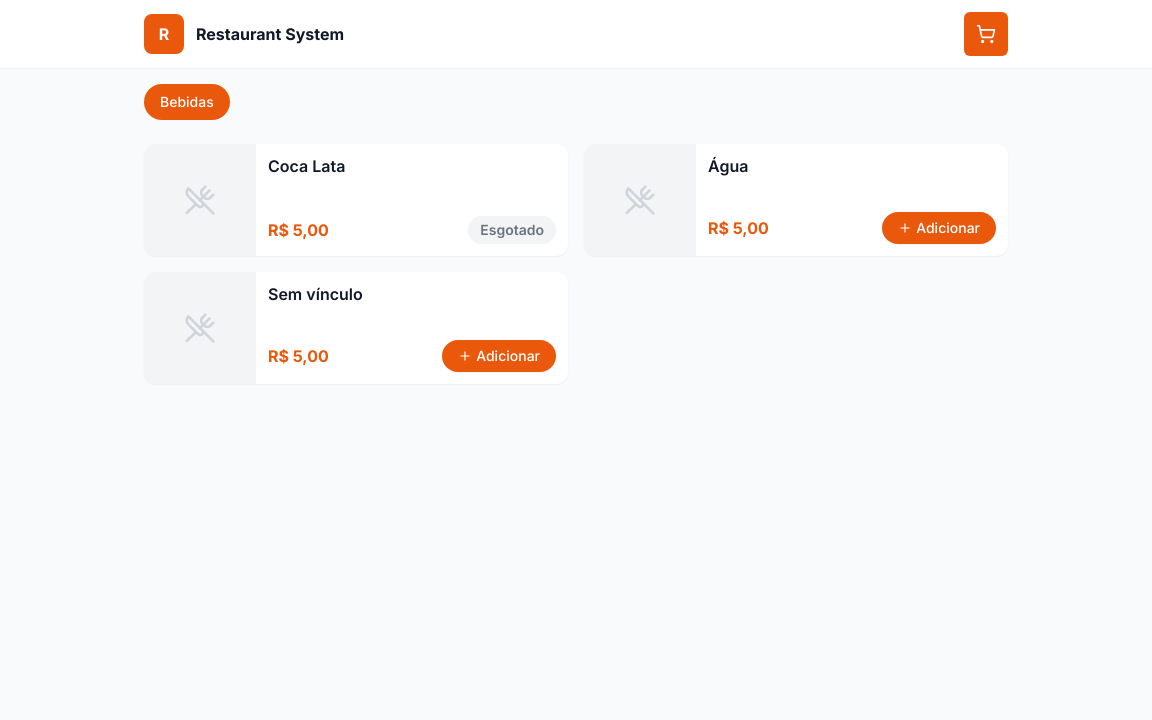
Test: stock race at confirmation › public checkout shows the stock error and retains the cart for correction
Click the button "Adicionar" below "Água" at (939, 228), box [882,212,996,244]
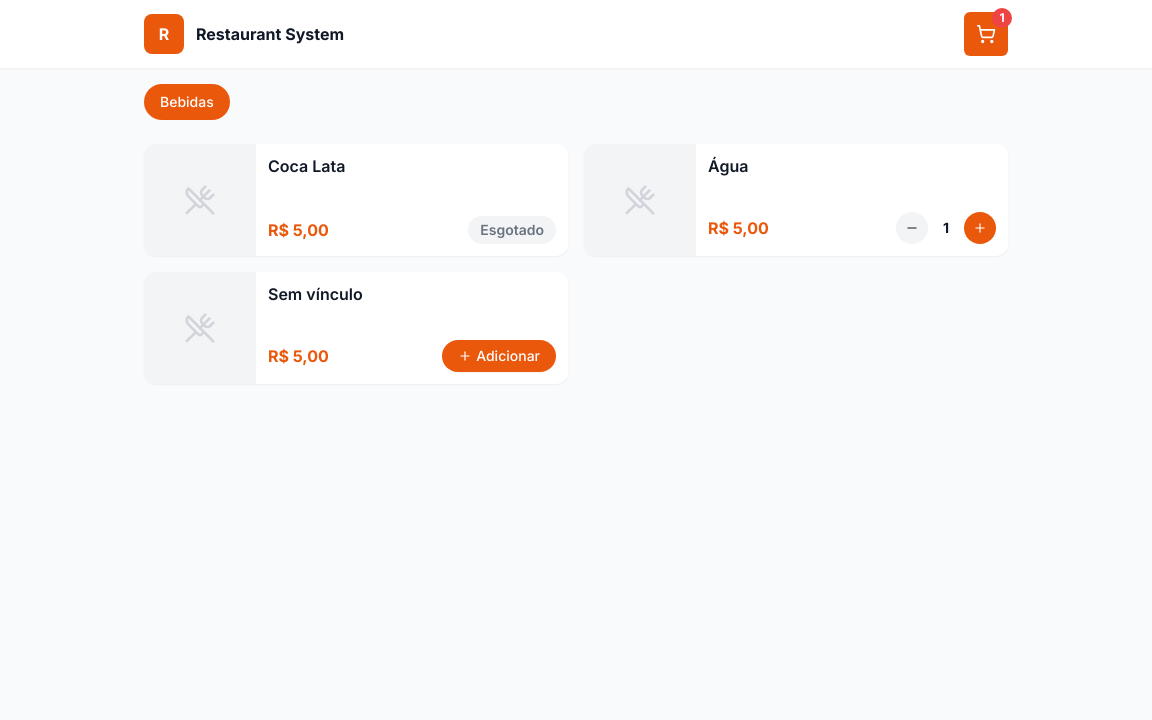
Click the button named "Abrir carrinho" at (986, 34), box [964,12,1008,56]
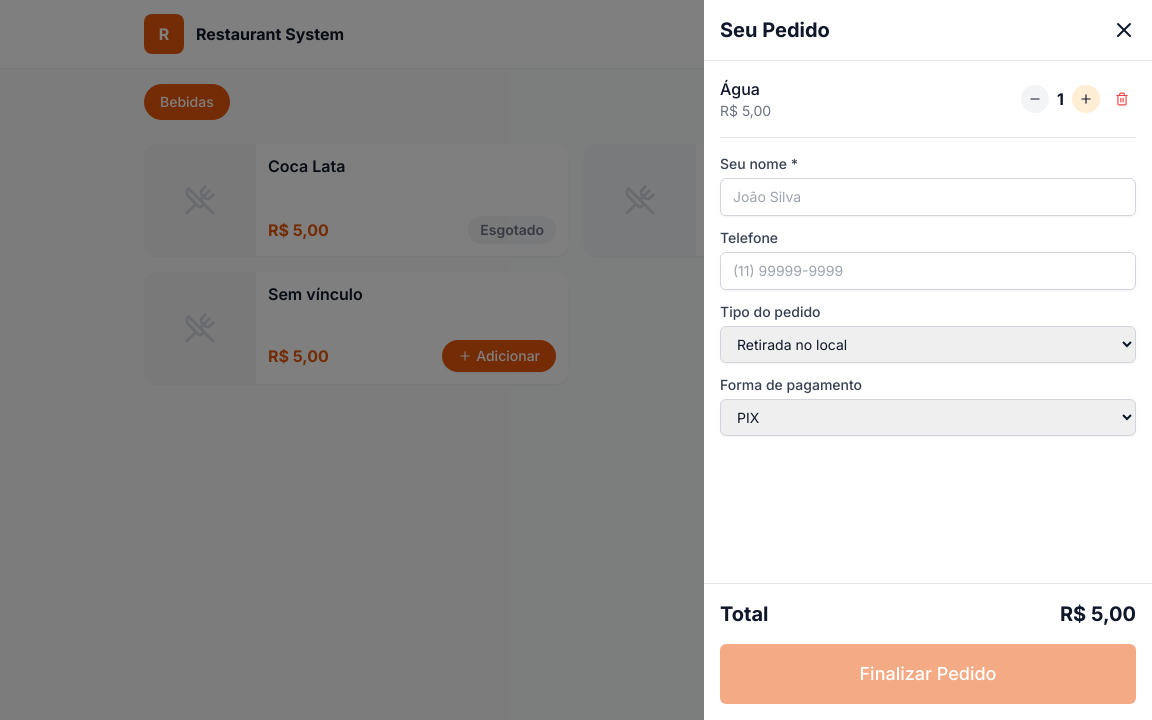
Type "Cliente" into the field with placeholder "João Silva" at (928, 197), box [720,178,1136,216]
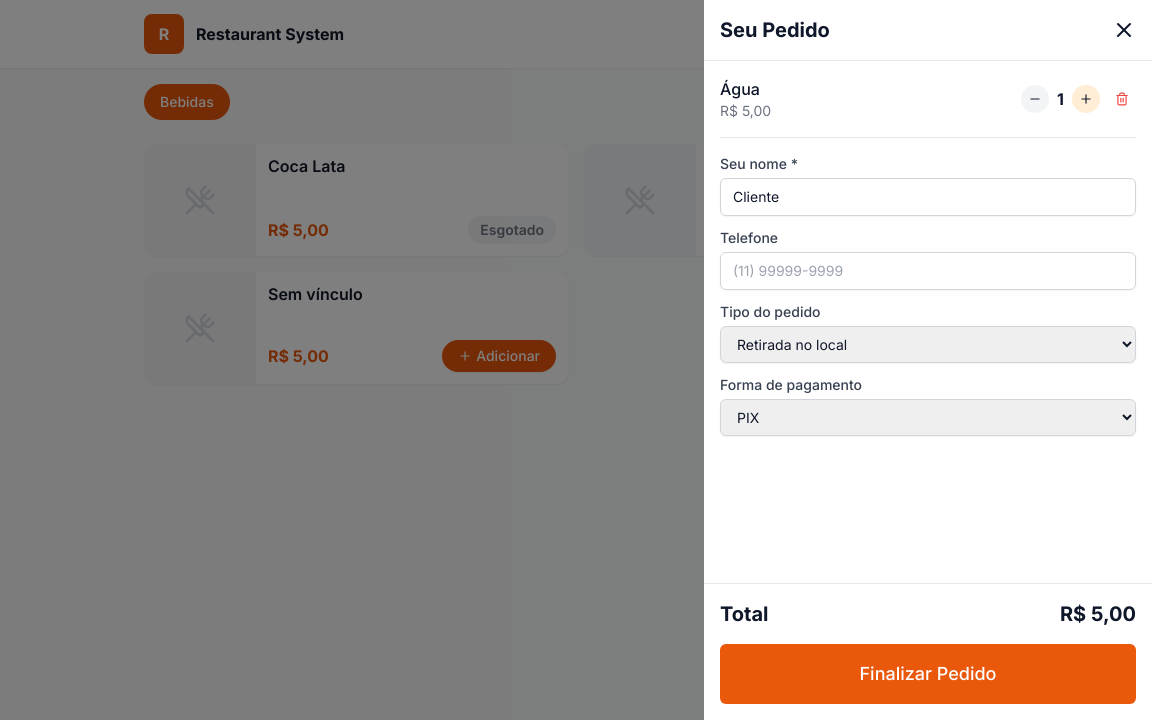
Click the button "Finalizar Pedido" at (928, 674), box [720,644,1136,704]
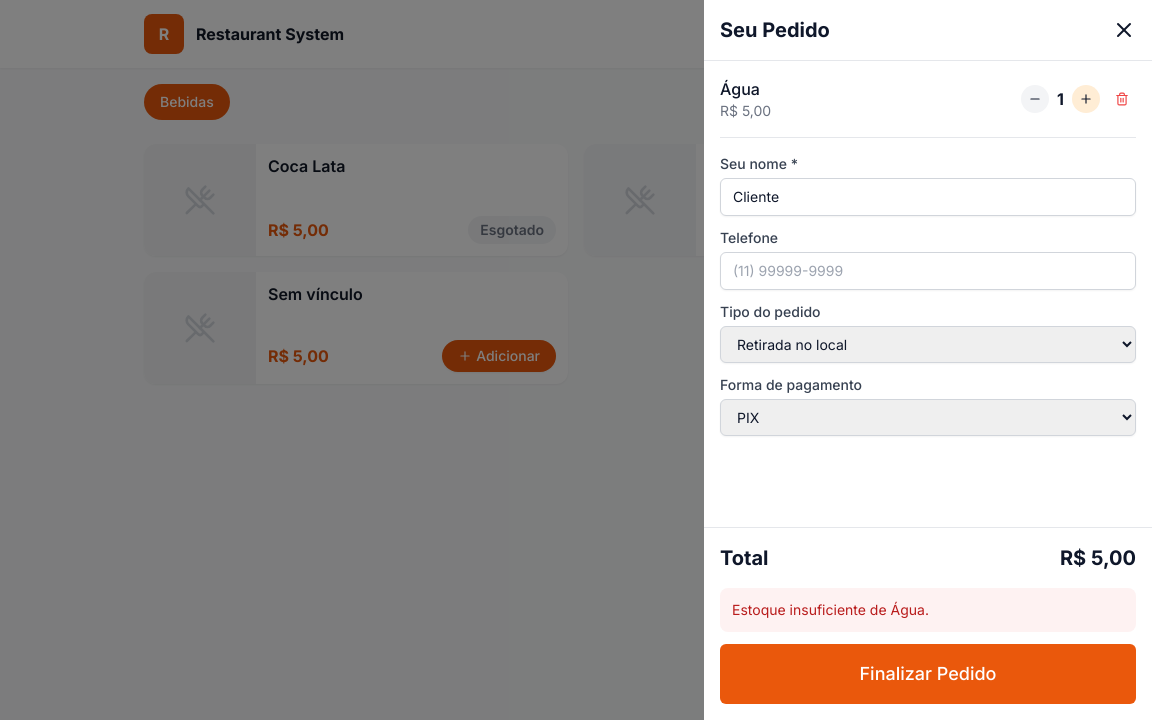
Now the button "Finalizar Pedido" is shown, box [720,644,1136,704]
Now the message reads "Estoque insuficiente de Água.", box [732,601,929,618]
